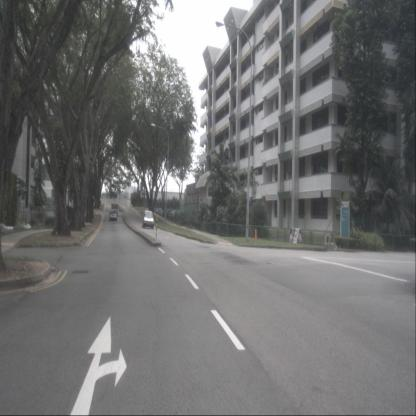cone: (254, 229, 258, 240)
